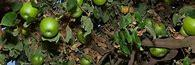apple: (178, 14, 195, 35), (40, 16, 58, 34), (19, 3, 35, 21)
